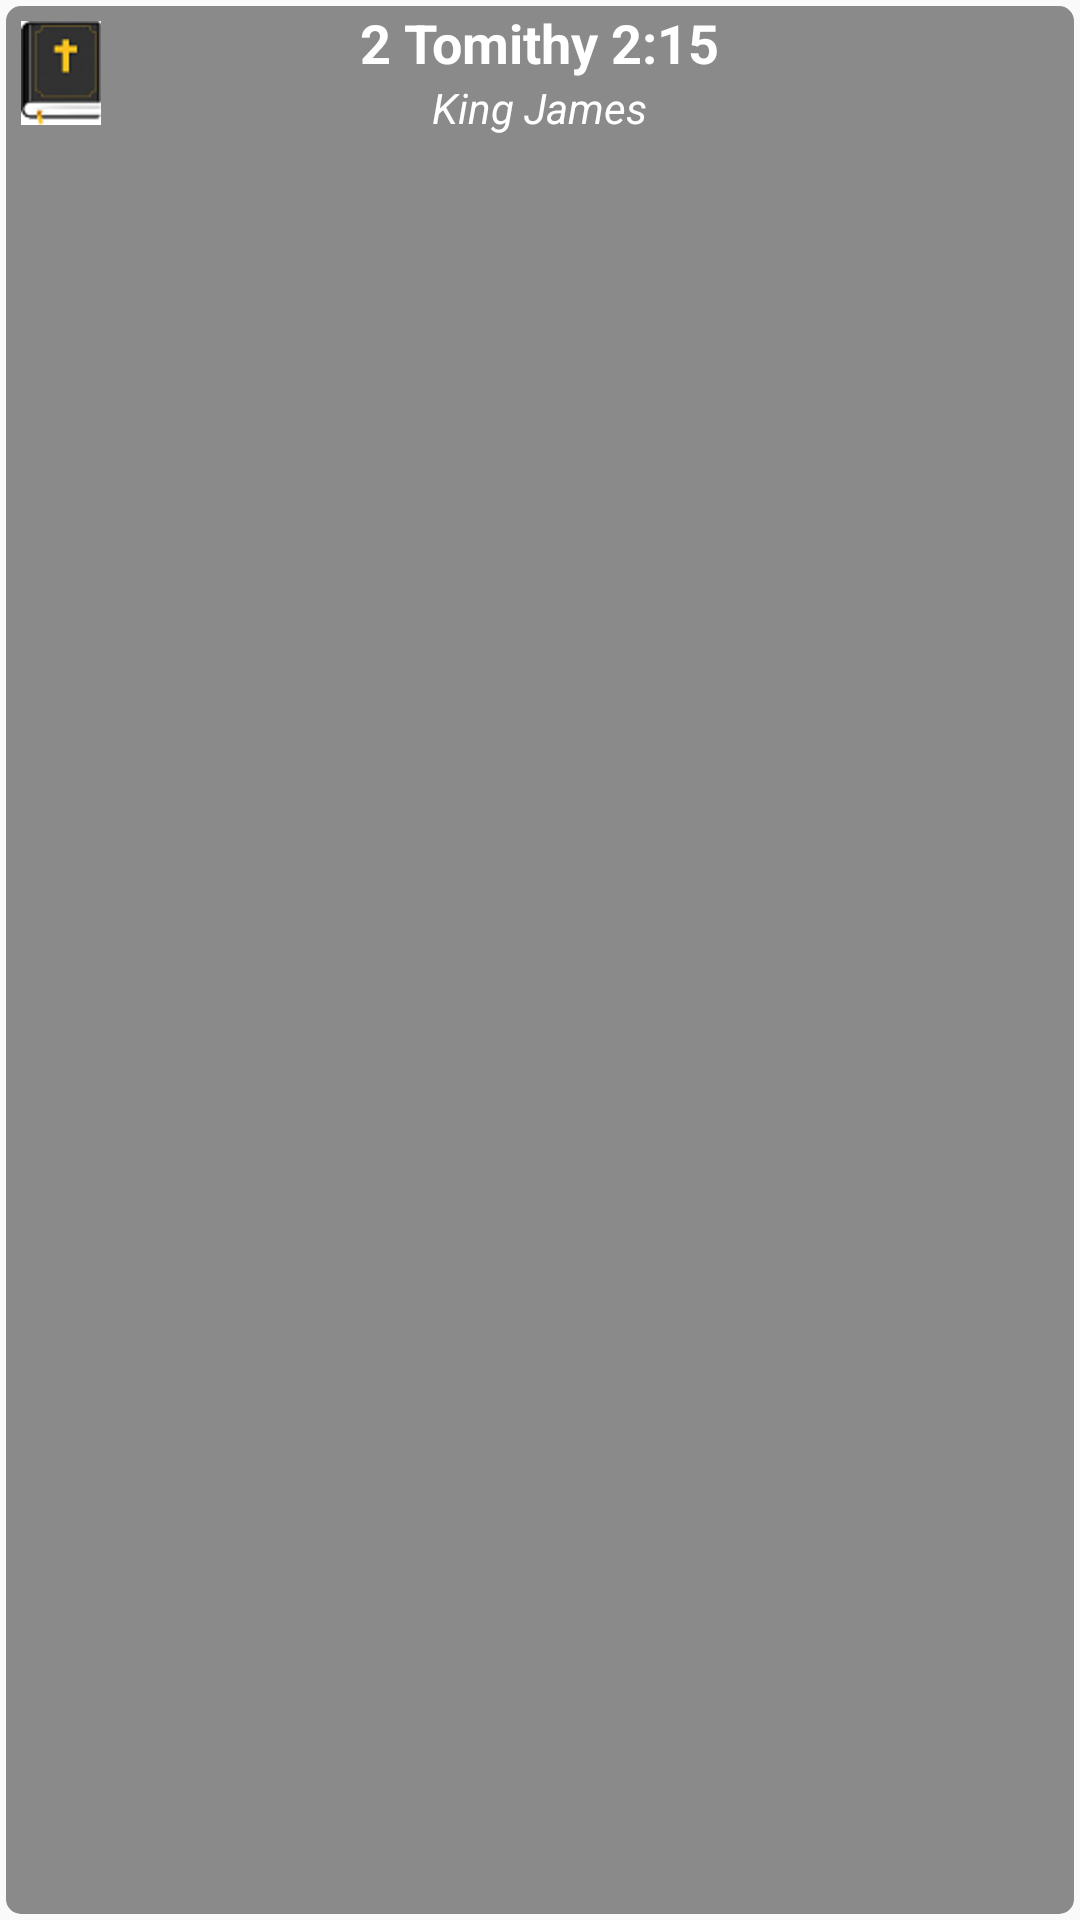

Named icons in this screenshot (1080*1920) and their bounding boxes, (x1, y1, x2, y2):
bible: (21, 21, 101, 125)
